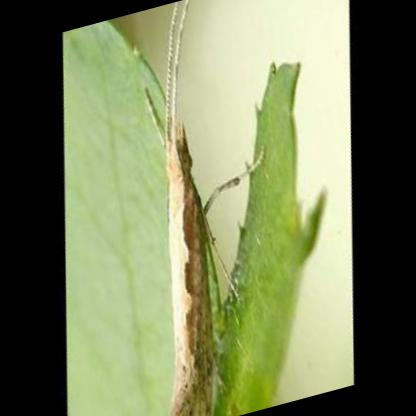plutella: (158, 0, 269, 416)
